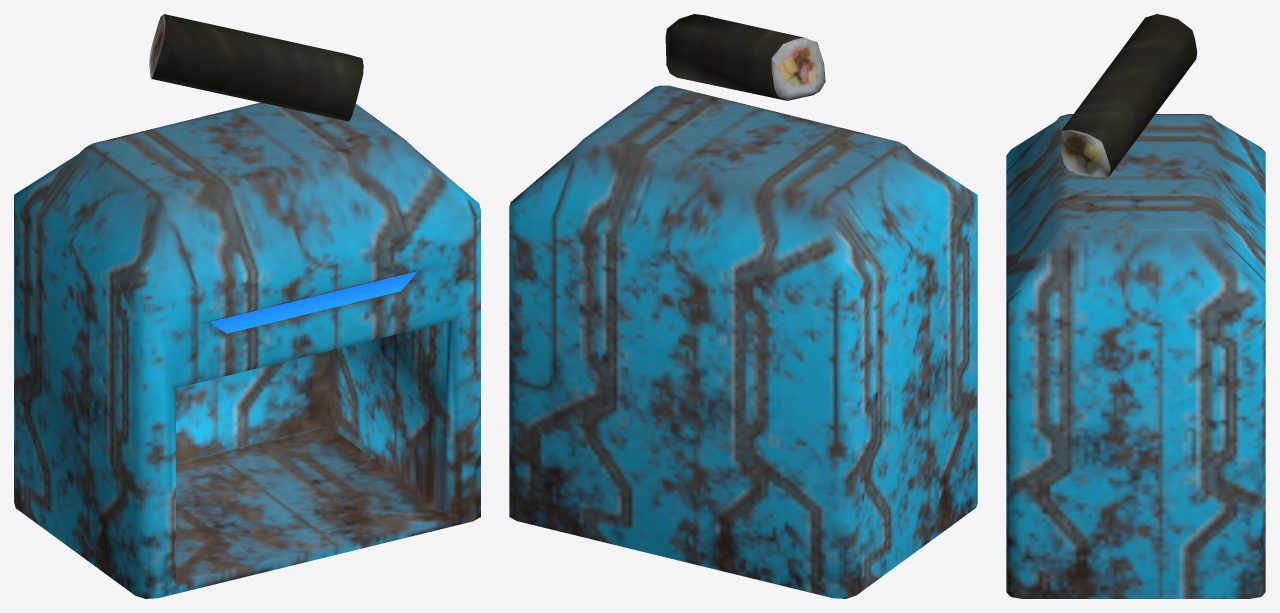
File: ExpenderRolls.glb
3 views of the same model, side by side, from view 1: azimuth 30°, elevation 25°; view 2: azimuth 150°, elevation 25°; view 3: azimuth 270°, elevation 25° (orthographic). The views are drawn at different scales.
Visible parts, largest first — view 1: Expender_Roll; view 2: Expender_Roll; view 3: Expender_Roll.
Boxes of the visible parts, left/top/right/bottom form: Expender_Roll: left=14, top=14, right=480, bottom=598; Expender_Roll: left=509, top=14, right=977, bottom=598; Expender_Roll: left=1006, top=14, right=1265, bottom=598.
Bounding box in the file's own units: 0.9908 × 1.37 × 0.6796.
Materials: 3 (2 with a texture image).
